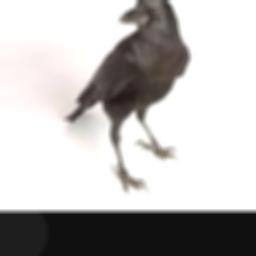Crow: (64, 0, 191, 195)
